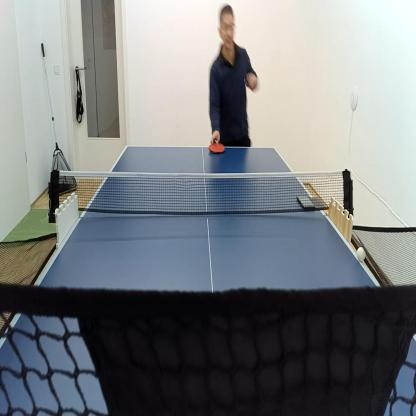Ball: (357, 246, 365, 260)
